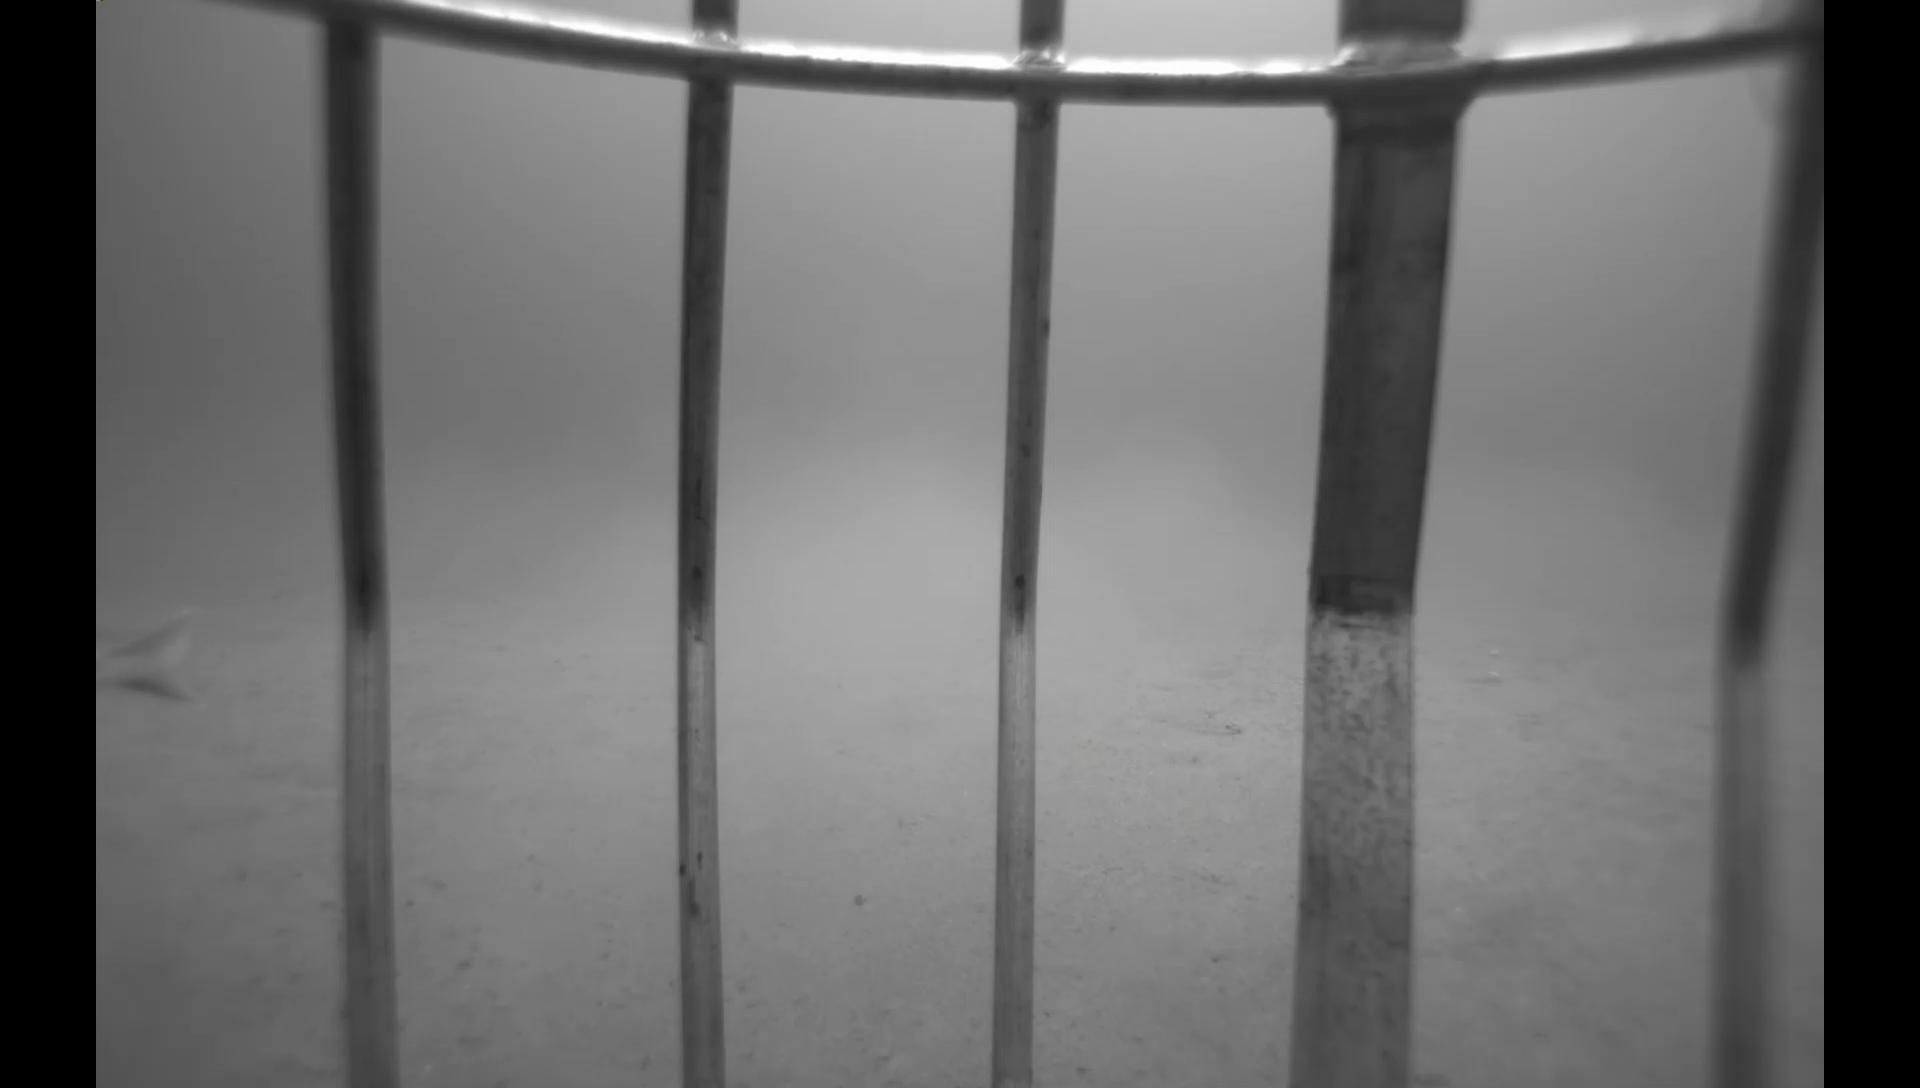CAULOLATILUSCYANOPS-170070101: (95, 592, 214, 720)
SYACIUM-183011000: (1143, 699, 1249, 742)
